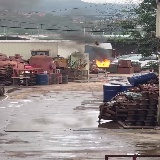fire: (96, 59, 110, 67)
